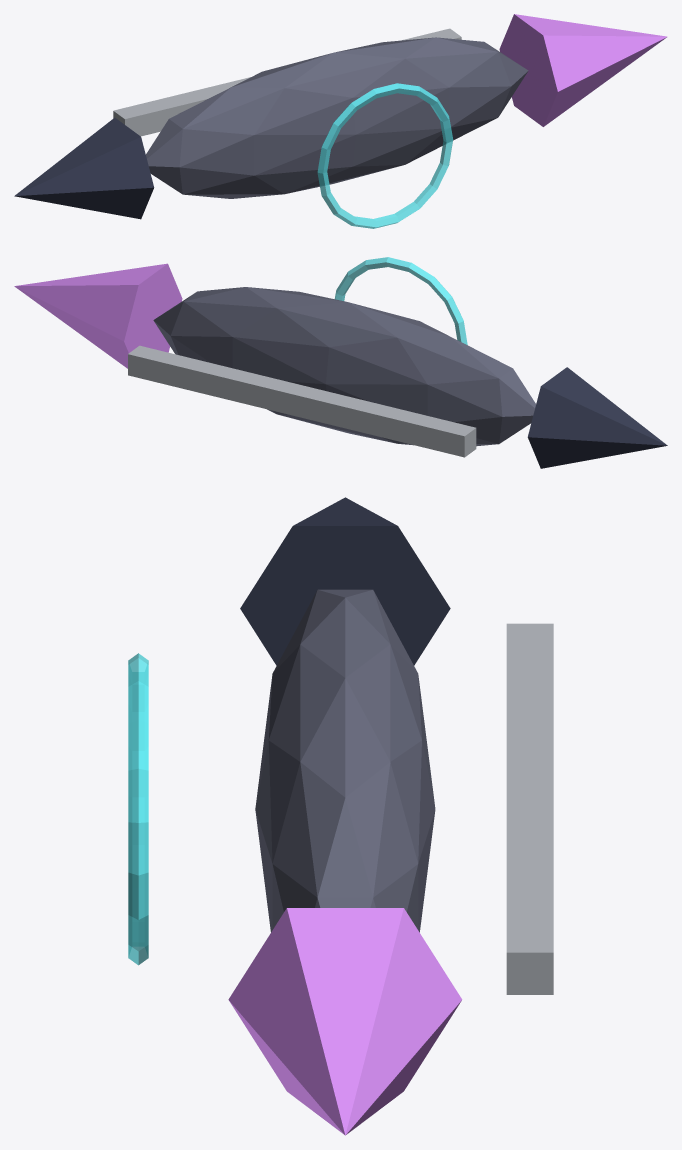
The model's file is 05_skyship_hull.glb.
3 renders of one model, top to bottom at view 1: azimuth 30°, elevation 25°; view 2: azimuth 150°, elevation 25°; view 3: azimuth 270°, elevation 25°, orthographic. The views are drawn at different scales.
Visible parts, largest first — view 1: hull_low_poly, bow_upgrade, stern_fin, size_class_ring, keel_plate; view 2: hull_low_poly, keel_plate, bow_upgrade, stern_fin, size_class_ring; view 3: hull_low_poly, bow_upgrade, keel_plate, stern_fin, size_class_ring.
Boxes of the visible parts, x1,y1,x2,y2 form: hull_low_poly: [146, 37, 528, 198]; bow_upgrade: [499, 14, 667, 126]; stern_fin: [14, 117, 154, 219]; size_class_ring: [317, 83, 453, 228]; keel_plate: [113, 28, 461, 136]; hull_low_poly: [153, 287, 535, 446]; keel_plate: [128, 345, 476, 457]; bow_upgrade: [14, 263, 182, 368]; stern_fin: [527, 367, 667, 468]; size_class_ring: [334, 257, 467, 344]; hull_low_poly: [255, 589, 435, 932]; bow_upgrade: [228, 908, 462, 1135]; keel_plate: [506, 623, 553, 994]; stern_fin: [240, 497, 450, 665]; size_class_ring: [128, 653, 148, 965].
Bounding box in the file's own units: 2.45 × 0.5015 × 0.6903.
